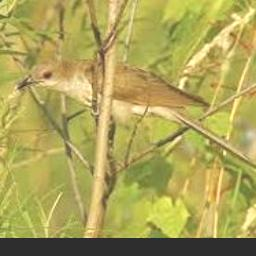Cuckoo: (18, 59, 256, 177)
